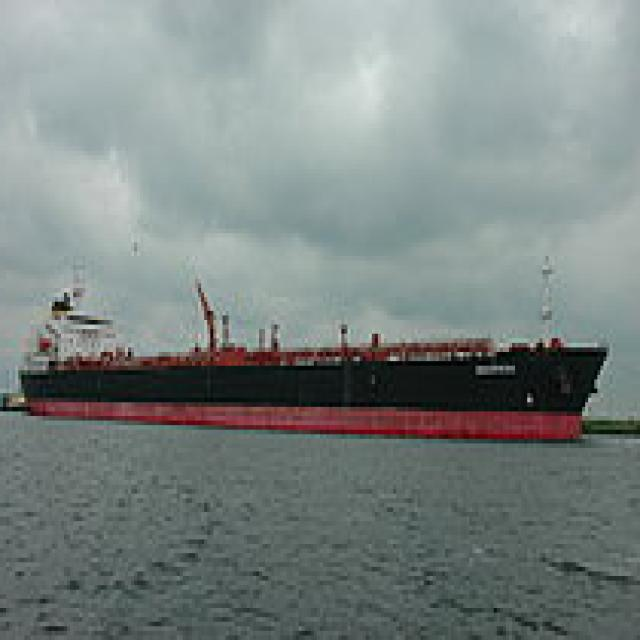Tanker: (21, 284, 616, 434)
